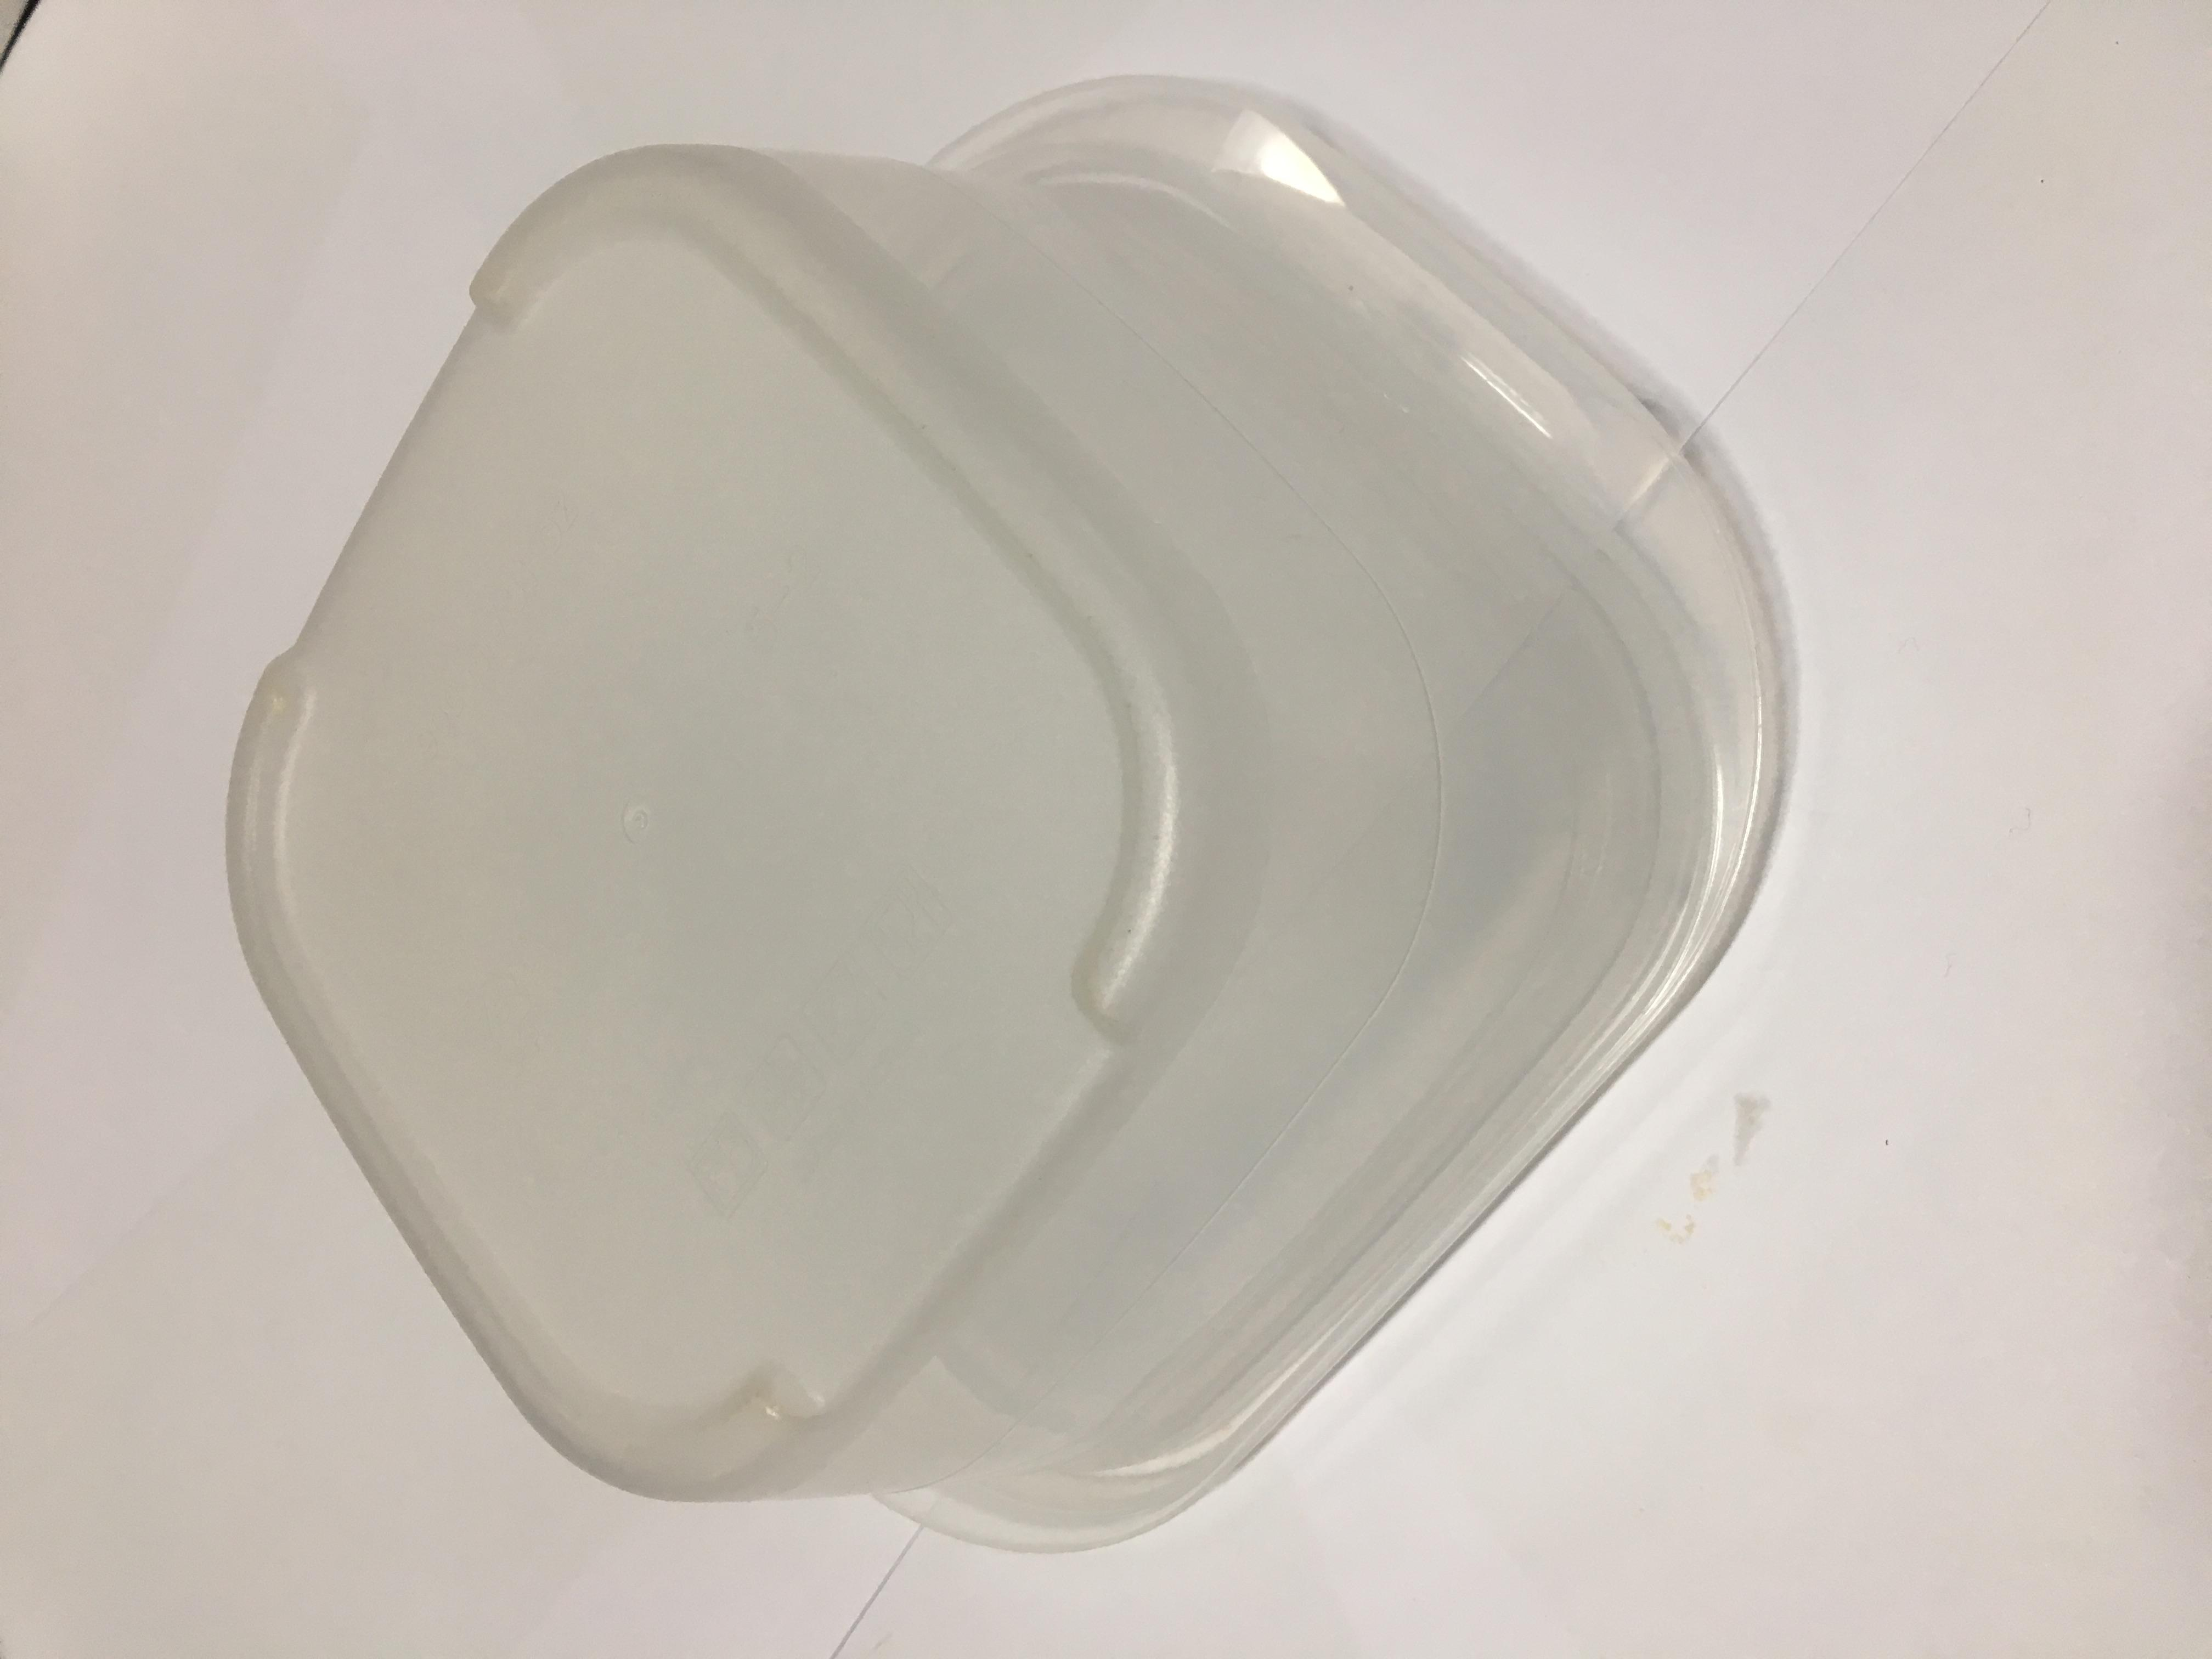bottle: (54, 143, 2186, 1337)
